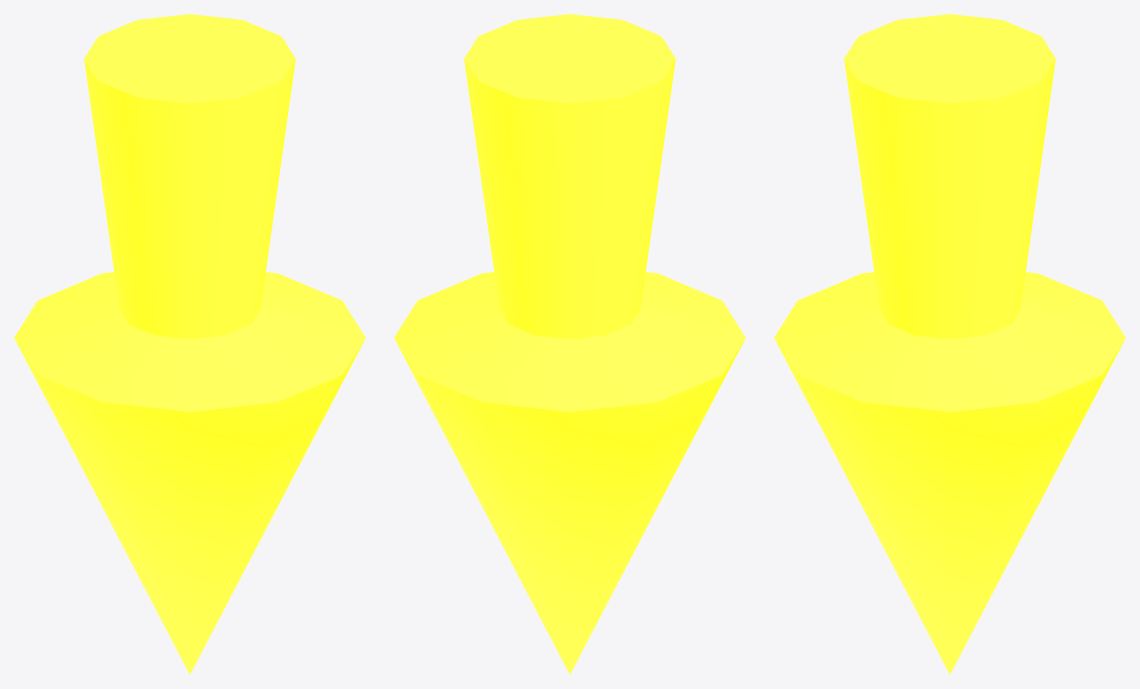
The model's file is target_arrow.glb.
3 views of the same model, side by side, from view 1: azimuth 30°, elevation 25°; view 2: azimuth 150°, elevation 25°; view 3: azimuth 270°, elevation 25° (orthographic).
Parts seen in each view (by area): view 1: node_Arrow; view 2: node_Arrow; view 3: node_Arrow.
Part boxes in pixels (x1=…): node_Arrow: x1=14, y1=14, x2=365, y2=674; node_Arrow: x1=394, y1=14, x2=745, y2=674; node_Arrow: x1=774, y1=14, x2=1125, y2=674.
Bounding box in the file's own units: 0.3053 × 0.5901 × 0.3053.
